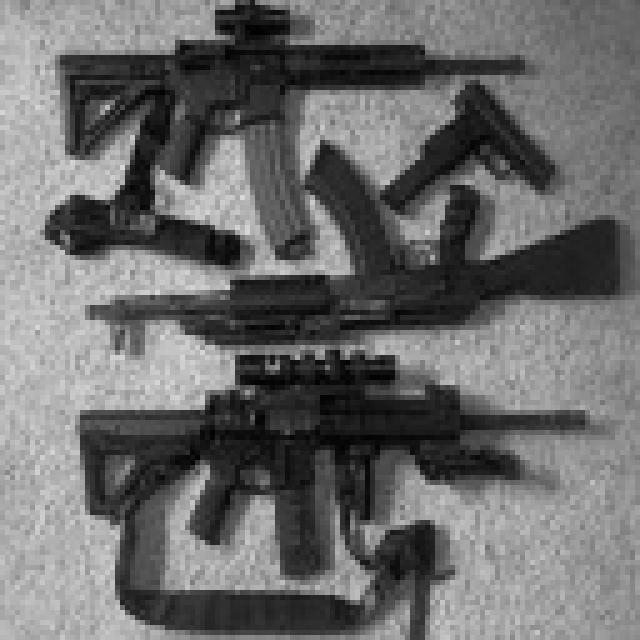Rifle: (0, 345, 640, 640), (25, 100, 640, 385), (0, 0, 547, 259), (377, 54, 582, 239)
